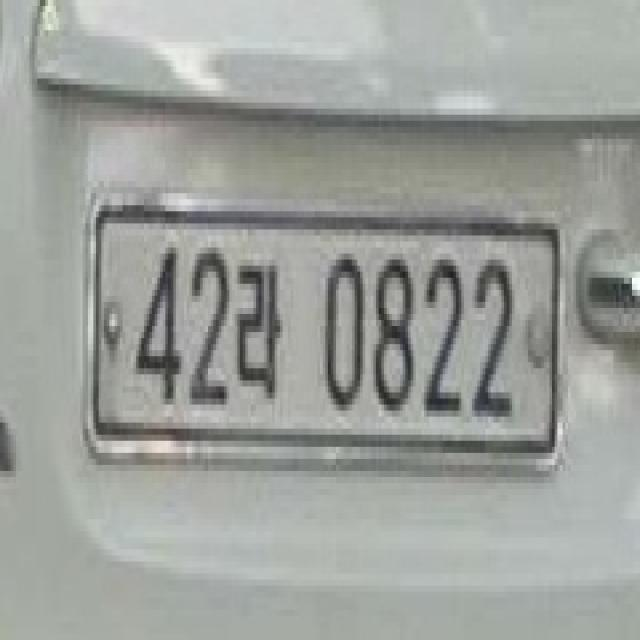plat: (84, 193, 564, 476)
